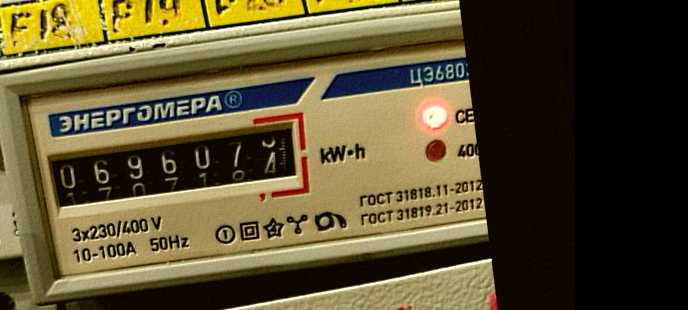0: (192, 140, 213, 172), (58, 161, 79, 191)
4: (260, 147, 280, 178)
6: (159, 145, 180, 176), (92, 156, 112, 186)
7: (226, 137, 248, 170)
9: (125, 151, 146, 181)
screen: (33, 107, 319, 225)
